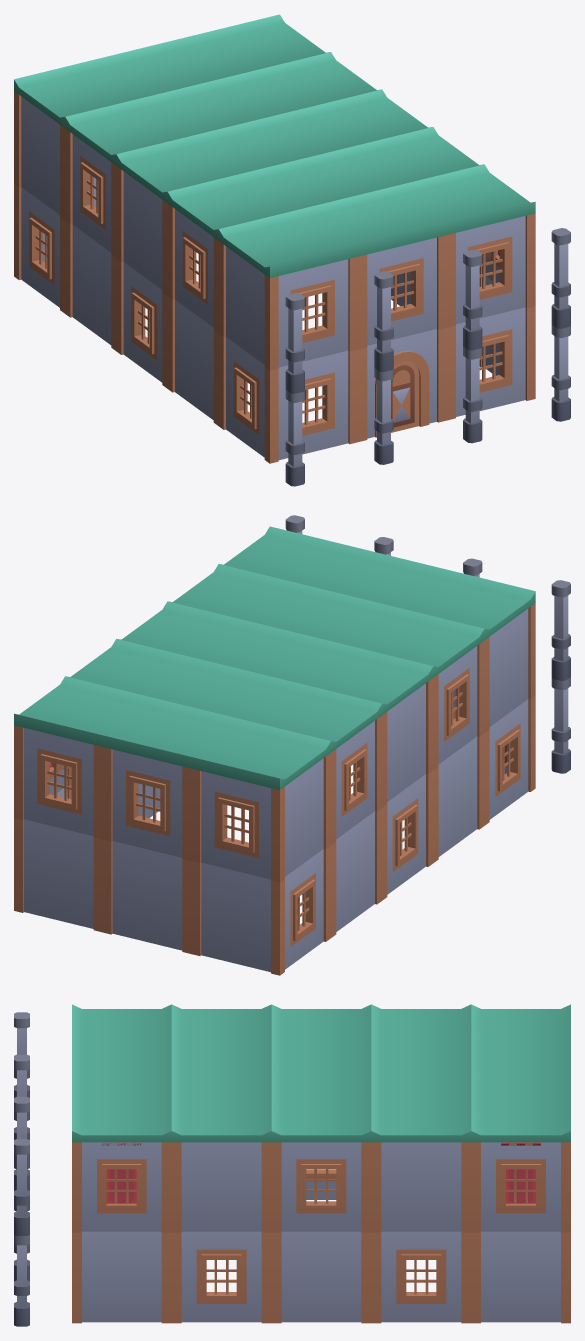
The model's file is palace.glb.
The picture shows the model from 3 angles, top to bottom: view 1: azimuth 30°, elevation 25°; view 2: azimuth 150°, elevation 25°; view 3: azimuth 270°, elevation 25°; orthographic projection. The views are drawn at different scales.
Visible parts, largest first — view 1: palace; view 2: palace; view 3: palace.
Boxes of the visible parts, box(x1,y1,x2,y2) form: palace: box(14, 14, 570, 486); palace: box(14, 515, 570, 975); palace: box(14, 1004, 570, 1326).
Size of the model in its own units: 9.48 by 6.38 by 16.74.
Materials: 57 (57 with a texture image).
